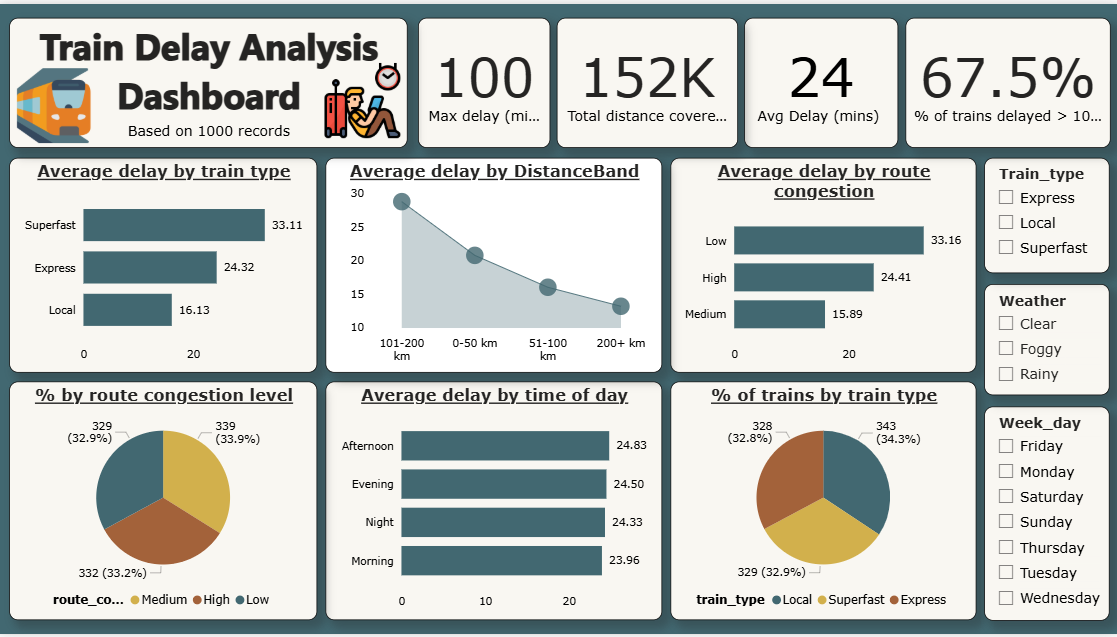

Layout of this report page (visuals, bound fields, positions):
{"tool":"powerbi","page":{"name":"Page 1","canvas":[1280,720],"ordinal":0},"visuals":[{"type":"card","fields":{"Values":["Avg(SQL Train_delay.delay_min)"]},"box":[852.9,15.7,175.7,148.6],"z":0},{"type":"clusteredBarChart","title":"Average delay by train type","fields":{"Category":["SQL Train_delay.train_type"],"Y":["Avg(SQL Train_delay.delay_min)"]},"box":[13.5,176.1,352.2,245.8],"z":1000},{"type":"clusteredBarChart","title":"Average delay by route congestion","fields":{"Category":["SQL Train_delay.route_congestion"],"Y":["Avg(SQL Train_delay.delay_min)"]},"box":[767.9,176.1,349.7,245.8],"z":2000},{"type":"card","fields":{"Values":["Max(SQL Train_delay.delay_min)"]},"box":[480,15.7,151.4,148.6],"z":3000},{"type":"card","fields":{"Values":["Sum(SQL Train_delay.distance_km)"]},"box":[638.6,15.7,207.1,148.6],"z":4000},{"type":"clusteredBarChart","title":"Average delay by time of day","fields":{"Y":["Avg(SQL Train_delay.delay_min)"],"Category":["SQL Train_delay.time_of_day"]},"box":[374.2,431.7,385.2,272.7],"z":5000},{"type":"lineChart","title":"Average delay by DistanceBand","fields":{"Y":["Avg(SQL Train_delay.delay_min)"],"Category":["SQL Train_delay.DistanceBand"]},"box":[374.2,176.1,385.2,245.8],"z":6000},{"type":"pieChart","title":"% of trains by train type","fields":{"Category":["SQL Train_delay.train_type"],"Y":["CountNonNull(SQL Train_delay.train_type)"]},"box":[767.9,431.7,349.7,272.7],"z":7000},{"type":"pieChart","title":"% by route congestion level","fields":{"Category":["SQL Train_delay.route_congestion"],"Y":["CountNonNull(SQL Train_delay.route_congestion)"]},"box":[13.5,431.7,352.2,272.7],"z":8000},{"type":"slicer","fields":{"Values":["SQL Train_delay.day_of_week"]},"box":[1127.5,459.8,143.1,244.6],"z":9000},{"type":"slicer","fields":{"Values":["SQL Train_delay.weather"]},"box":[1127.5,320.4,143.1,127.2],"z":10000},{"type":"slicer","fields":{"Values":["SQL Train_delay.train_type"]},"box":[1127.5,176.1,143.1,132.1],"z":11000},{"type":"card","fields":{"Values":["SQL Train_delay.PercentDelayedOver10"]},"box":[1037.1,15.7,234.3,148.6],"z":12000},{"type":"textbox","title":"Train Delay Analysis Dashboard","box":[13.5,15.9,454.9,149.2],"z":13000},{"type":"image","box":[12.9,68.6,101.4,95.7],"z":14000},{"type":"image","box":[365.7,57.1,101.4,107.1],"z":15000}]}

Visuals, with their boxes in screenshot pixels (x1, y1, x2, y2), scaled from the page's 1280x720 canvas onto the 1117x637 screenshot:
card - Avg(SQL Train_delay.delay_min): <box>744,14,898,145</box>
"Average delay by train type" clusteredBarChart: <box>12,156,319,373</box>
"Average delay by route congestion" clusteredBarChart: <box>670,156,975,373</box>
card - Max(SQL Train_delay.delay_min): <box>419,14,551,145</box>
card - Sum(SQL Train_delay.distance_km): <box>557,14,738,145</box>
"Average delay by time of day" clusteredBarChart: <box>327,382,663,623</box>
"Average delay by DistanceBand" lineChart: <box>327,156,663,373</box>
"% of trains by train type" pieChart: <box>670,382,975,623</box>
"% by route congestion level" pieChart: <box>12,382,319,623</box>
slicer - SQL Train_delay.day_of_week: <box>984,407,1109,623</box>
slicer - SQL Train_delay.weather: <box>984,283,1109,396</box>
slicer - SQL Train_delay.train_type: <box>984,156,1109,273</box>
card - SQL Train_delay.PercentDelayedOver10: <box>905,14,1109,145</box>
"Train Delay Analysis Dashboard" textbox: <box>12,14,409,146</box>
image: <box>11,61,100,145</box>
image: <box>319,51,408,145</box>
